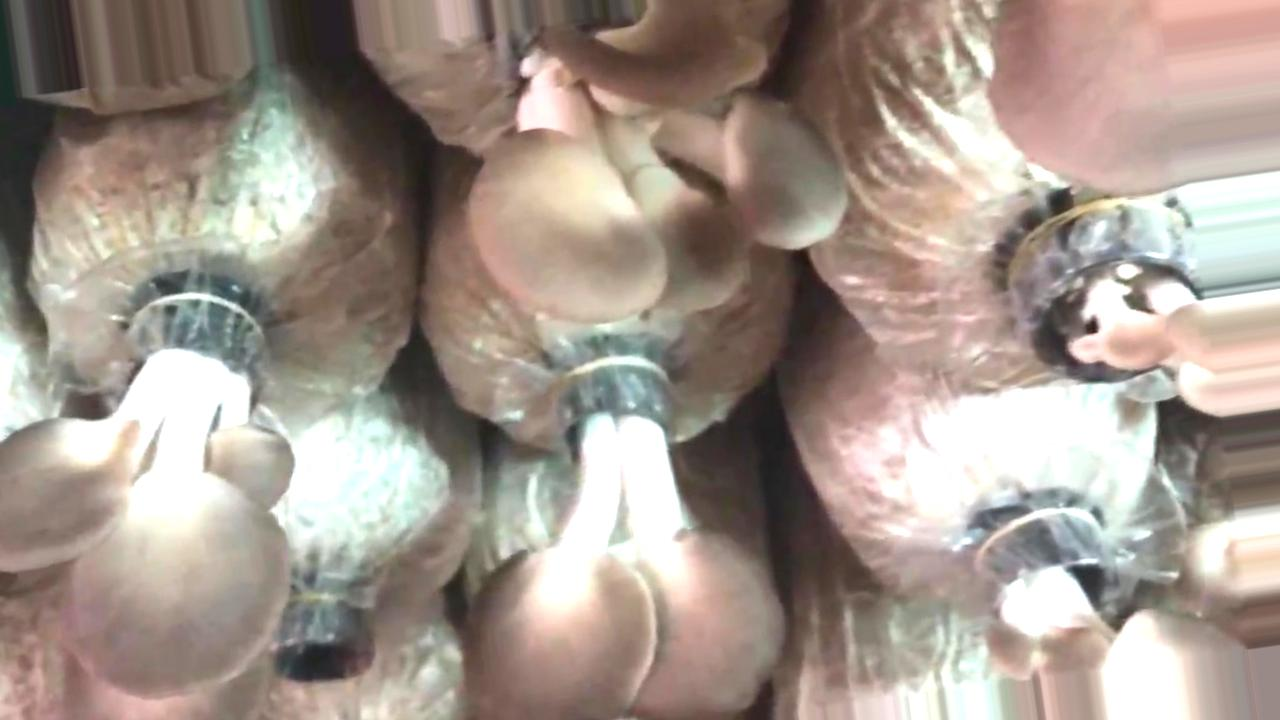nam: (473, 1, 843, 320), (1, 299, 296, 699), (468, 346, 782, 720), (988, 510, 1252, 720), (993, 1, 1280, 193), (1024, 209, 1280, 414)
